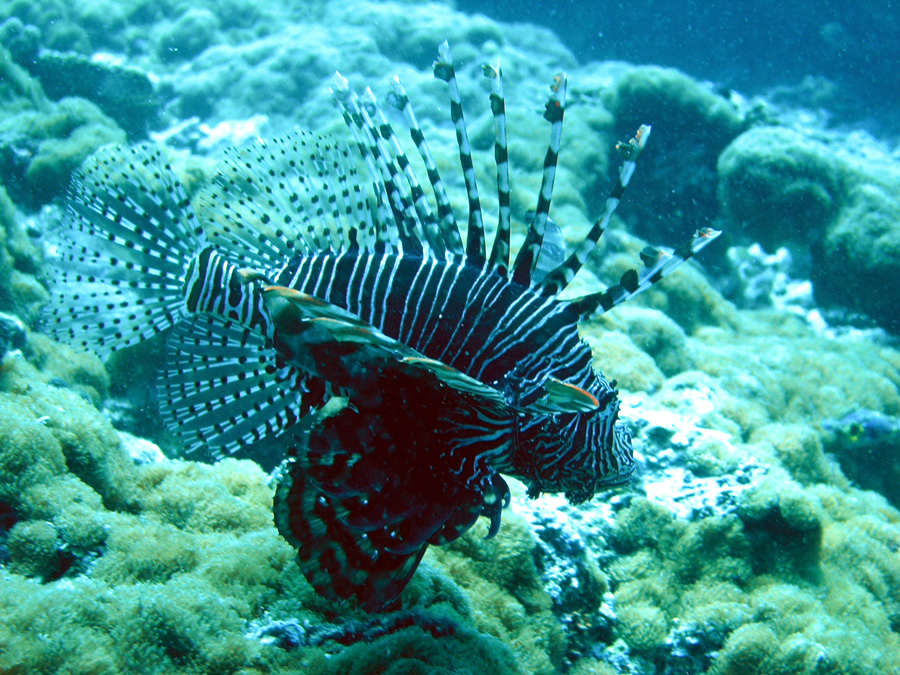Pterois_volitans: (60, 85, 738, 598)
